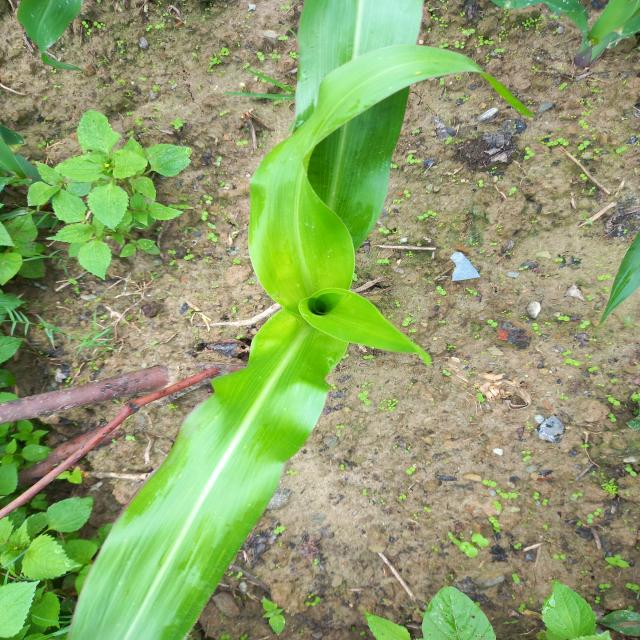maize: (497, 0, 640, 101), (0, 0, 140, 86)
weed: (0, 113, 87, 640), (0, 81, 199, 284), (345, 522, 640, 639)
